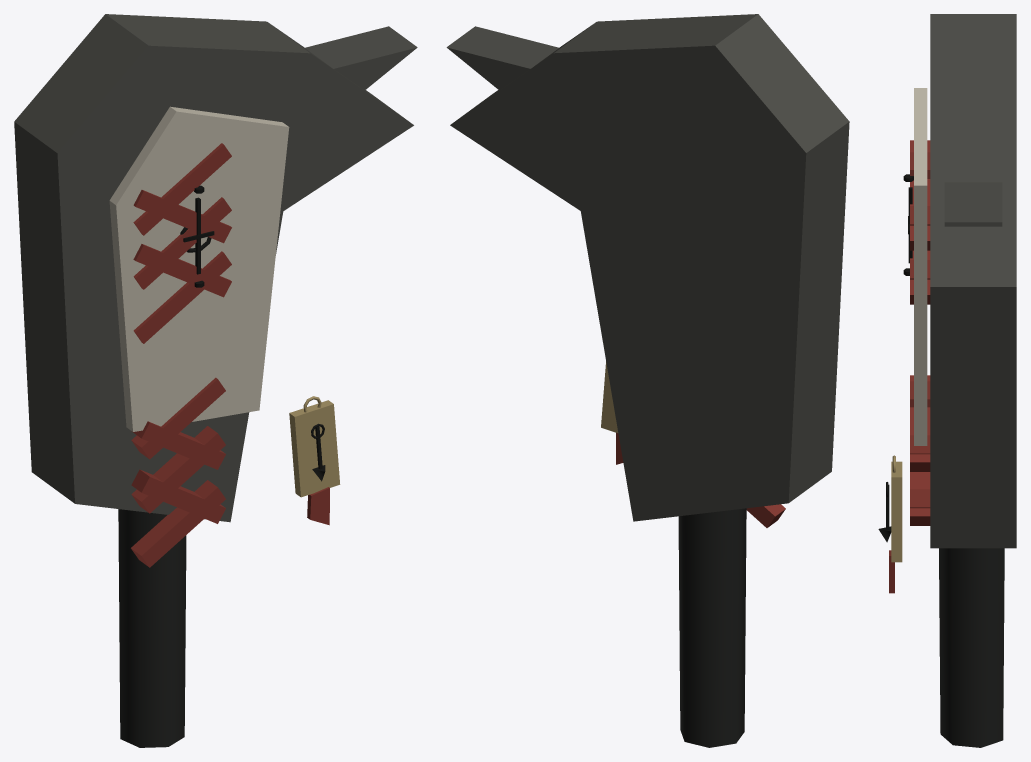
Rendered from fantasy-faceted-bearded-axe-v1.glb.
3 renders of one model, left to right at view 1: azimuth 30°, elevation 25°; view 2: azimuth 150°, elevation 25°; view 3: azimuth 270°, elevation 25°, orthographic.
Parts seen in each view (by area): view 1: Bearded Axe; view 2: Bearded Axe; view 3: Bearded Axe.
Part boxes in pixels (<box>): Bearded Axe: <box>14,14,417,747</box>; Bearded Axe: <box>446,14,849,747</box>; Bearded Axe: <box>878,14,1016,747</box>.
Bounding box in the file's own units: 1.76 × 3.26 × 0.5769.
